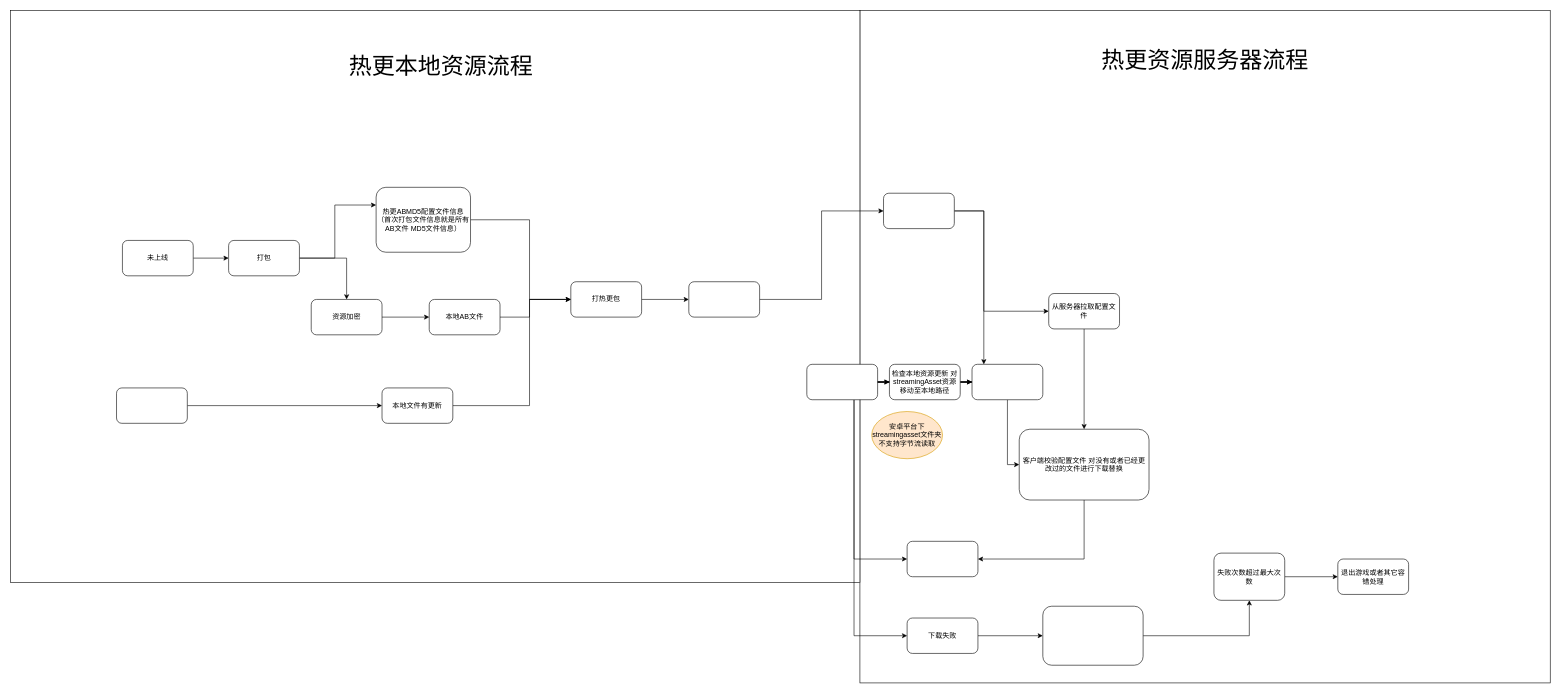
Image size: 1561x693. Some labels were removed from this diagram. Each missing label, with the box of its shape:
上线: (116, 387, 187, 423)
下载成功进入游戏: (907, 541, 978, 577)
客户端: (806, 364, 878, 400)
对下载失败文件进行重新下载: (1042, 606, 1143, 665)
更新服务器配置文件和AB文件: (883, 193, 954, 229)
检查资源版本号: (971, 364, 1043, 400)
生成对应热更文件和配置文件: (688, 281, 760, 317)
